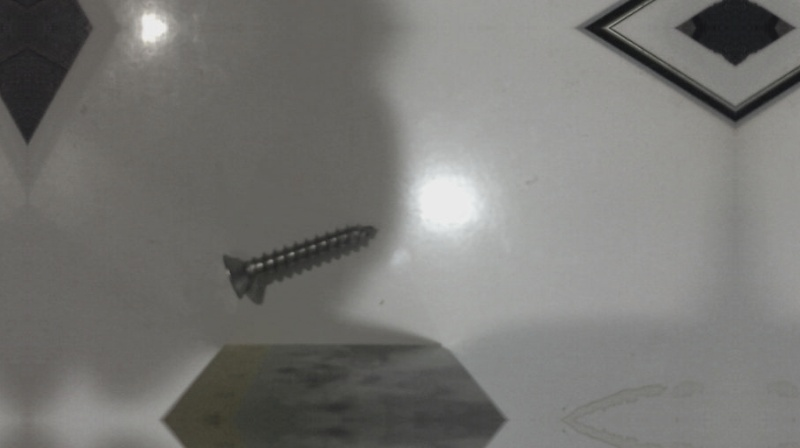S001: (219, 222, 380, 302)
